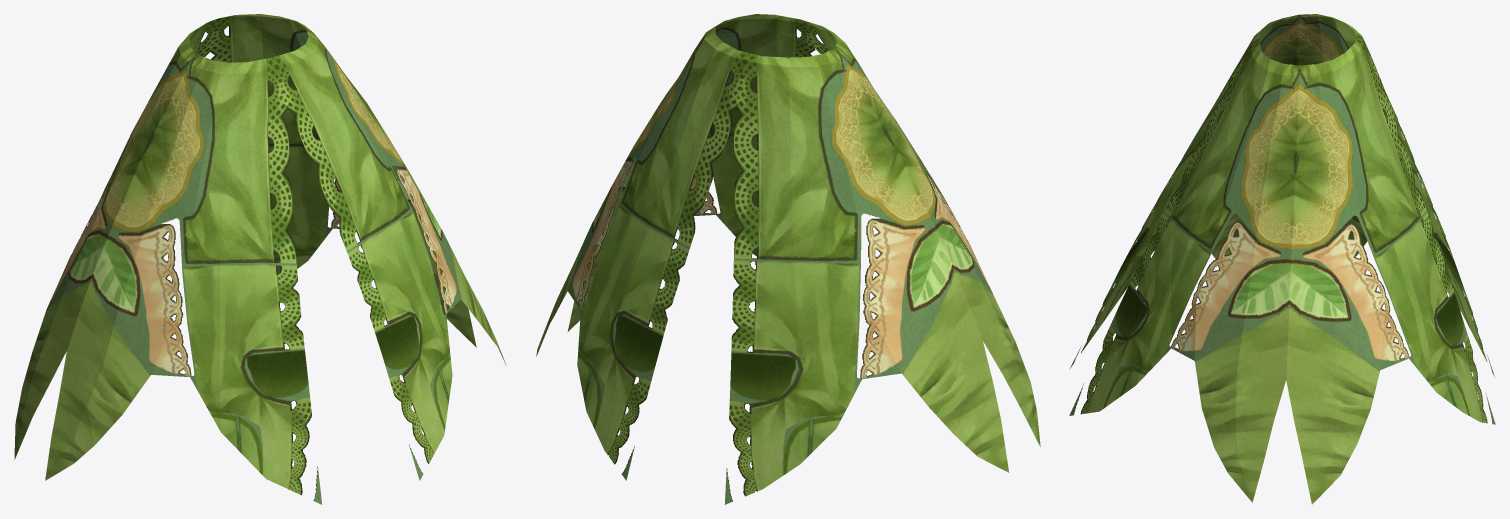
Rendered from skinSource0PGE.obj.
3 renders of one model, left to right at view 1: azimuth 30°, elevation 25°; view 2: azimuth 150°, elevation 25°; view 3: azimuth 270°, elevation 25°, orthographic. The views are drawn at different scales.
Visible parts, largest first — view 1: skinSource0PGE; view 2: skinSource0PGE; view 3: skinSource0PGE.
Boxes of the visible parts, x1,y1,x2,y2 form: skinSource0PGE: (14, 14, 506, 504); skinSource0PGE: (536, 14, 1040, 504); skinSource0PGE: (1069, 14, 1495, 504).
Bounding box in the file's own units: 65.94 × 51.3 × 54.41.
